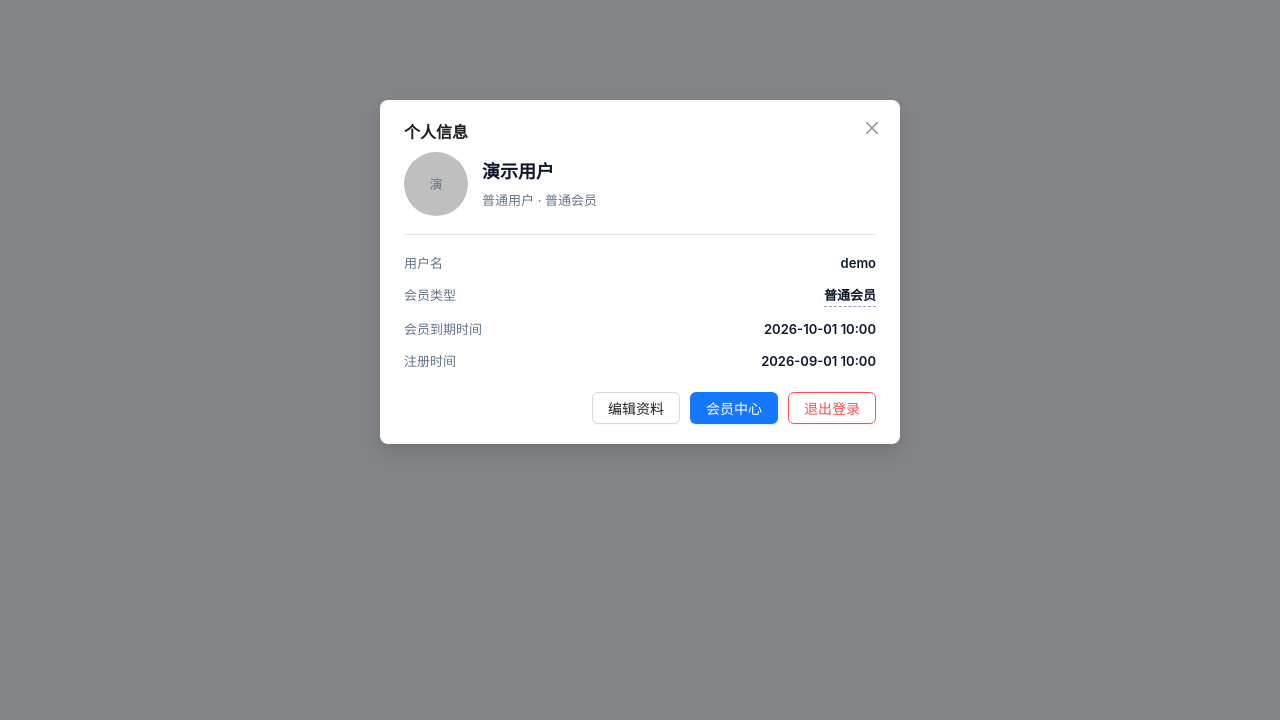
UserInfoModal › edits nickname and saves
Click the button "编辑资料".
click(636, 408)  # box [592,392,680,424]
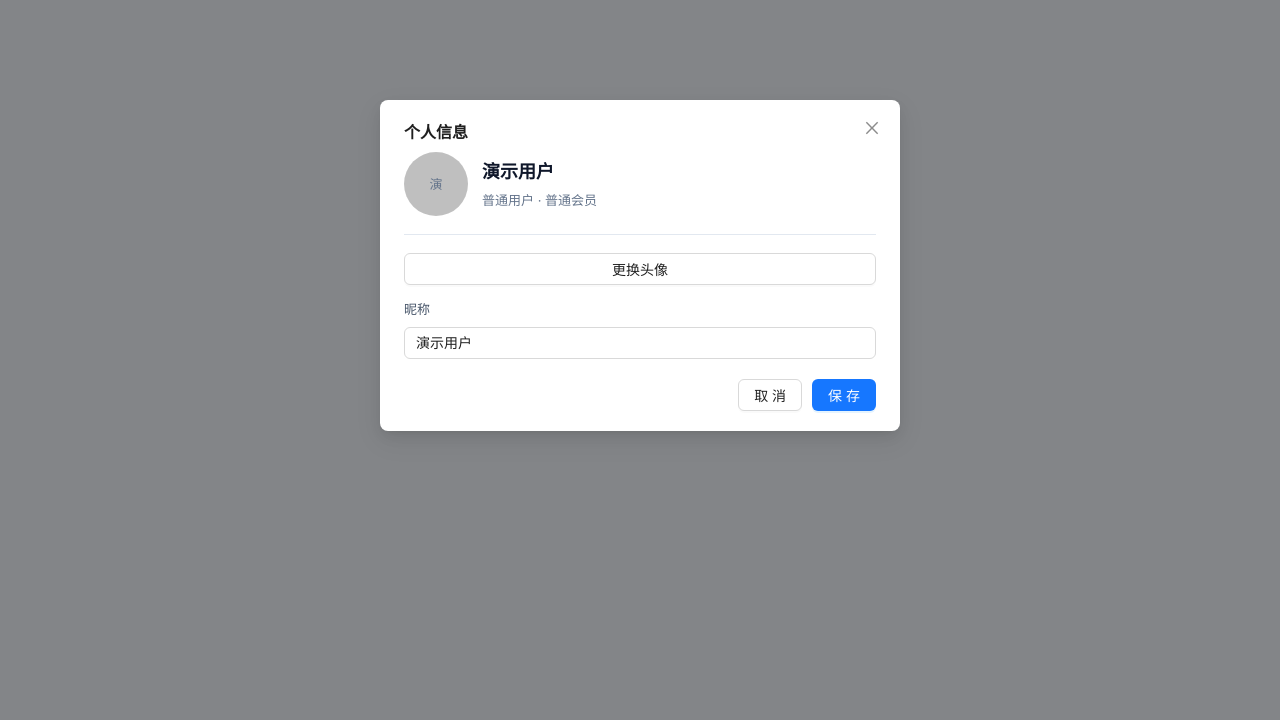
Replace the text in the field labelled "昵称" with "新昵称" at [640, 343], box [404,327,876,359]
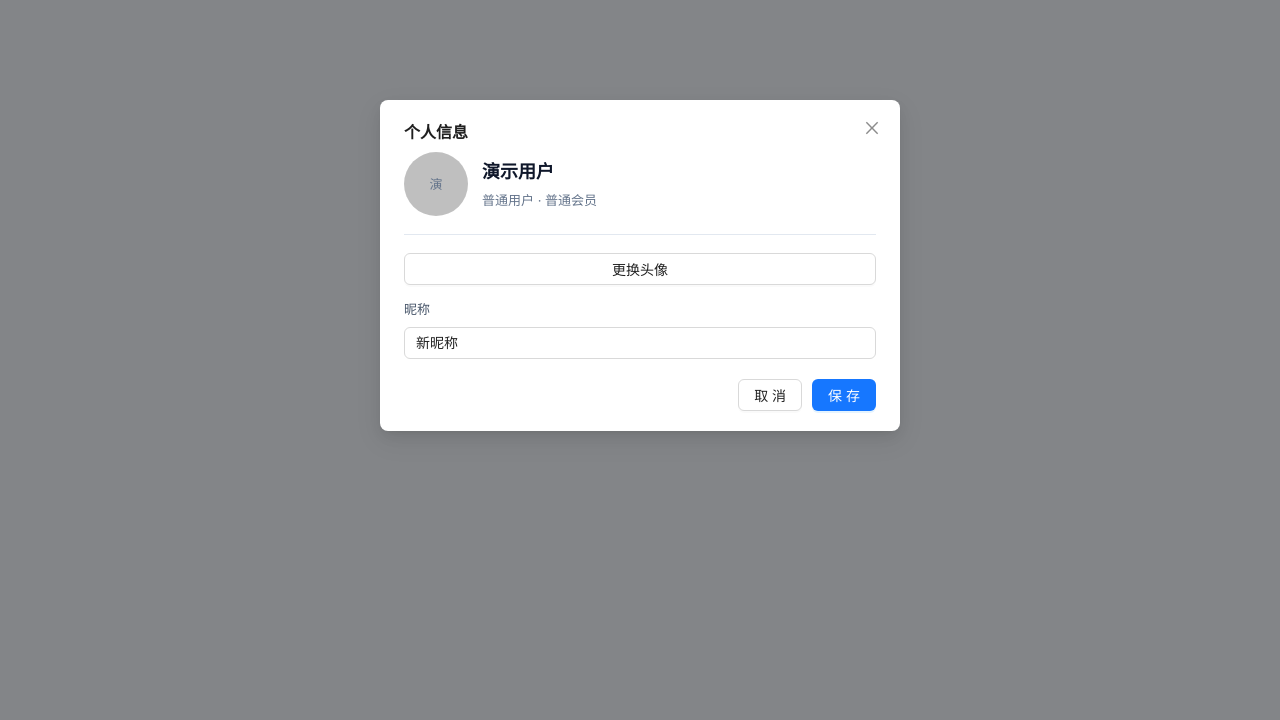
Click the button "保 存".
click(844, 395)  # box [812,379,876,411]
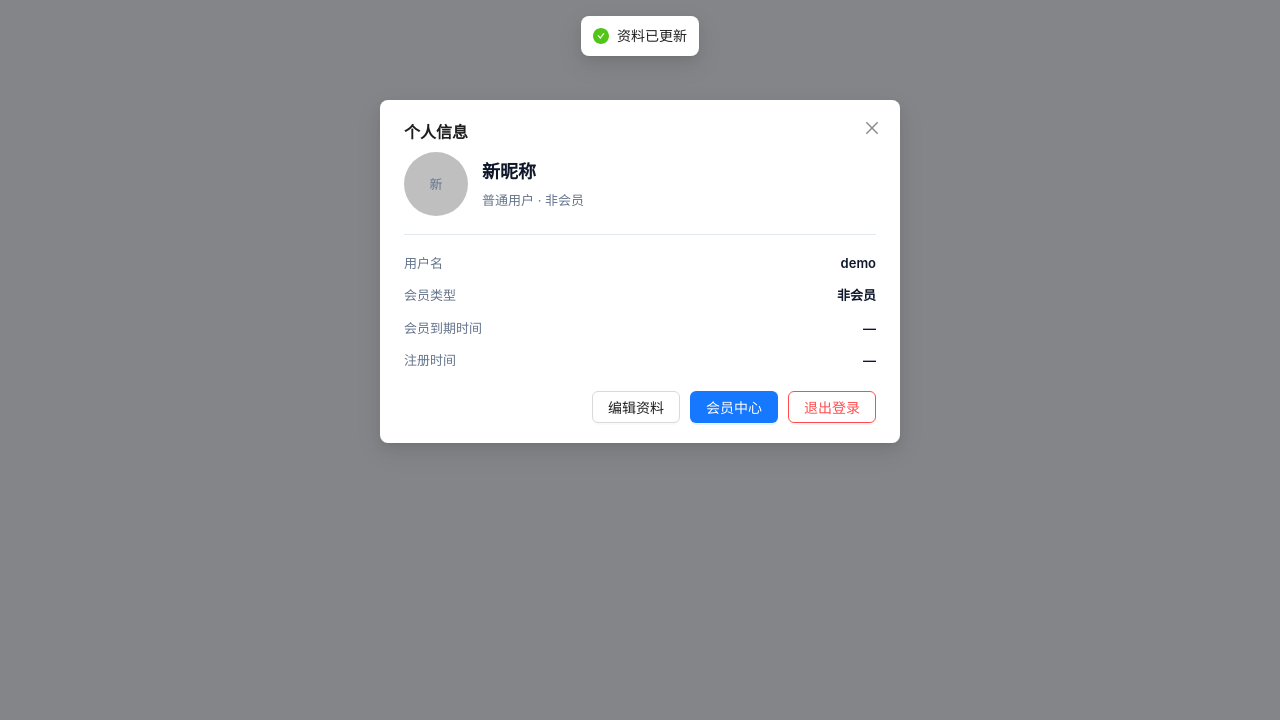
Expected: the text "新昵称" is shown, [482,161,536,182]
